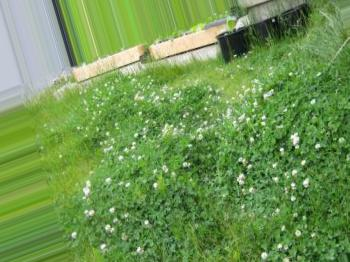patch: (170, 40, 185, 49), (121, 51, 124, 59)
